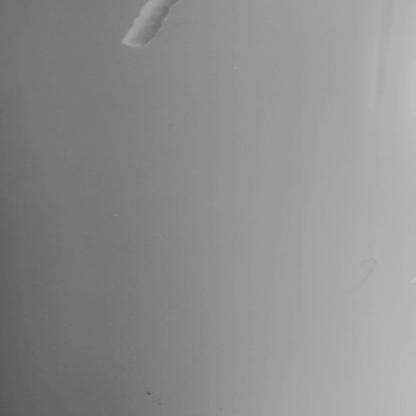sunshang: (116, 1, 184, 49)
